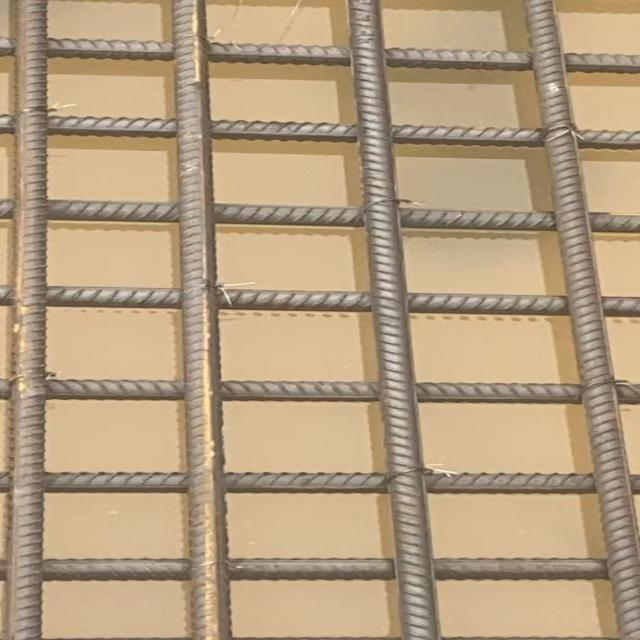ribbed bar: (522, 0, 639, 639), (350, 0, 441, 639), (173, 0, 232, 639), (0, 35, 638, 75), (0, 111, 638, 151), (10, 0, 48, 639), (0, 198, 638, 233), (0, 285, 638, 316), (0, 378, 638, 405), (0, 471, 638, 494), (0, 557, 607, 581)
